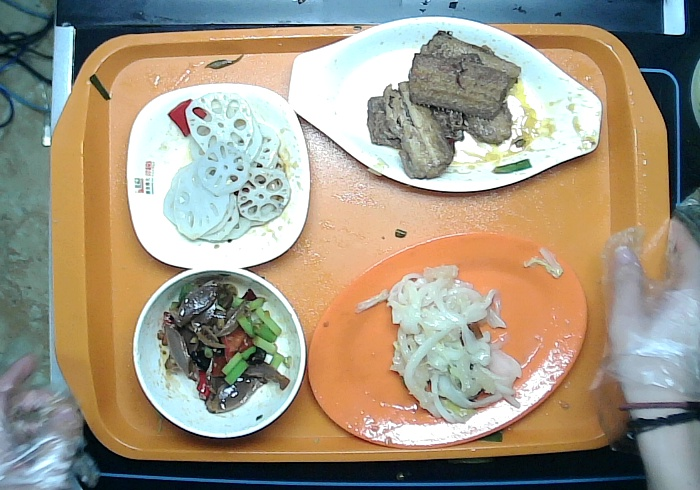NLDX-Bai_Se_Xiao_Fang_Die: (122, 80, 312, 275)
NLDX-Fan_Wan: (129, 263, 308, 442)
NLDX-Ju_Se_Pan: (303, 230, 590, 453)
NLDX-Yu_Pan: (281, 12, 604, 194)
